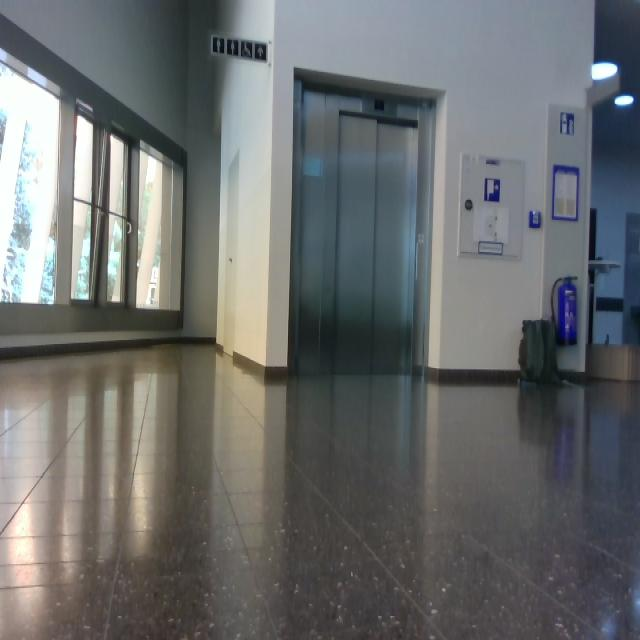door: (290, 79, 436, 379)
fire extinguisher: (551, 276, 578, 346)
light bulb: (591, 61, 618, 81), (614, 94, 634, 108)
tiled floor: (2, 340, 639, 638)
window: (1, 45, 187, 332), (1, 54, 61, 305)
